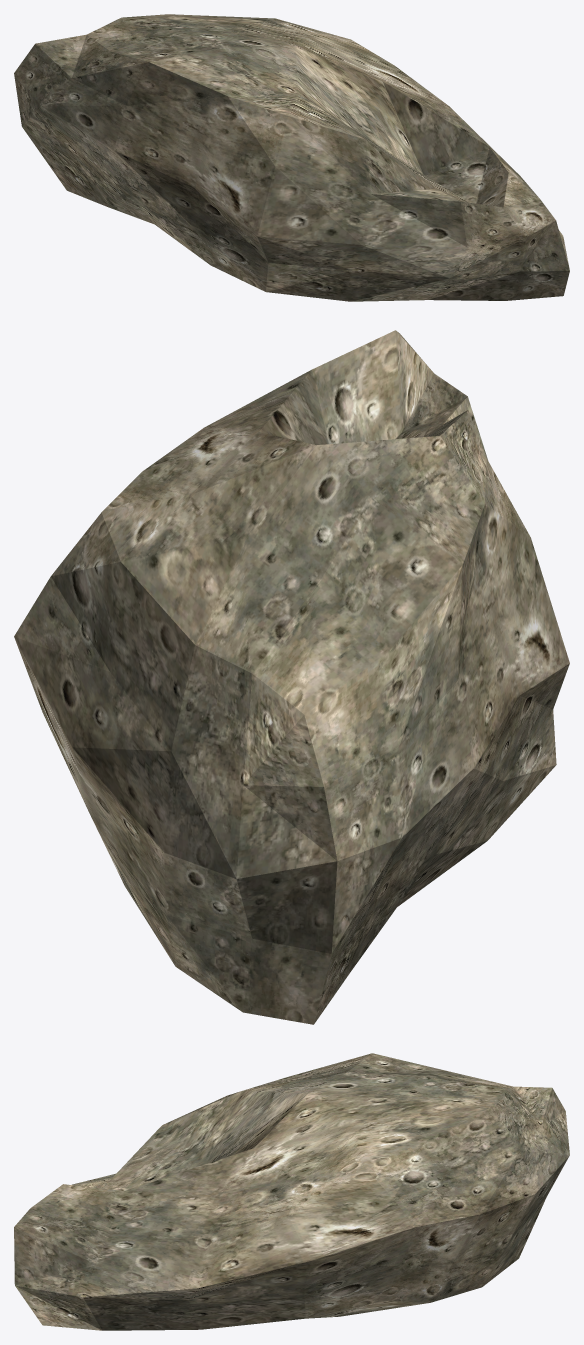
Rendered from asteroid_radial_s03_l0.fbx.
The picture shows the model from 3 angles, top to bottom: view 1: azimuth 30°, elevation 25°; view 2: azimuth 150°, elevation 25°; view 3: azimuth 270°, elevation 25°; orthographic projection. The views are drawn at different scales.
Parts seen in each view (by area): view 1: mesh_node; view 2: mesh_node; view 3: mesh_node.
Part boxes in pixels (x1,y1,x2,y2): mesh_node: (14,14,569,301); mesh_node: (14,330,569,1024); mesh_node: (14,1053,569,1330).
Size of the model in its own units: 2.11 by 1.48 by 3.46.
